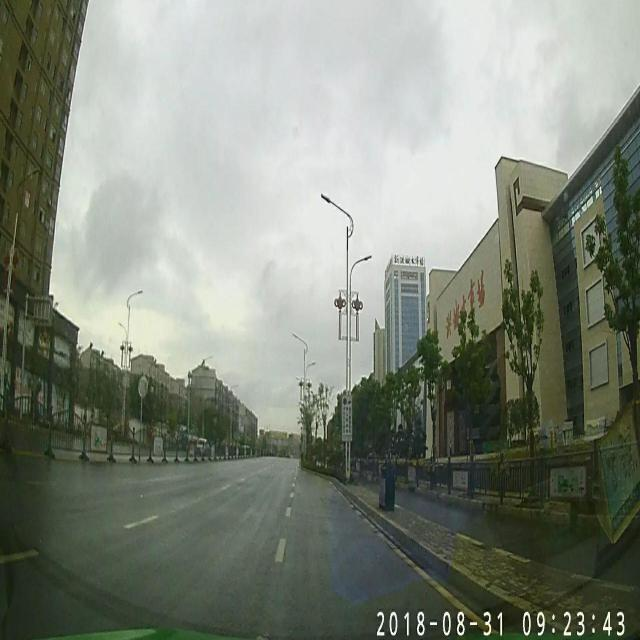car: (196, 438, 208, 456)
